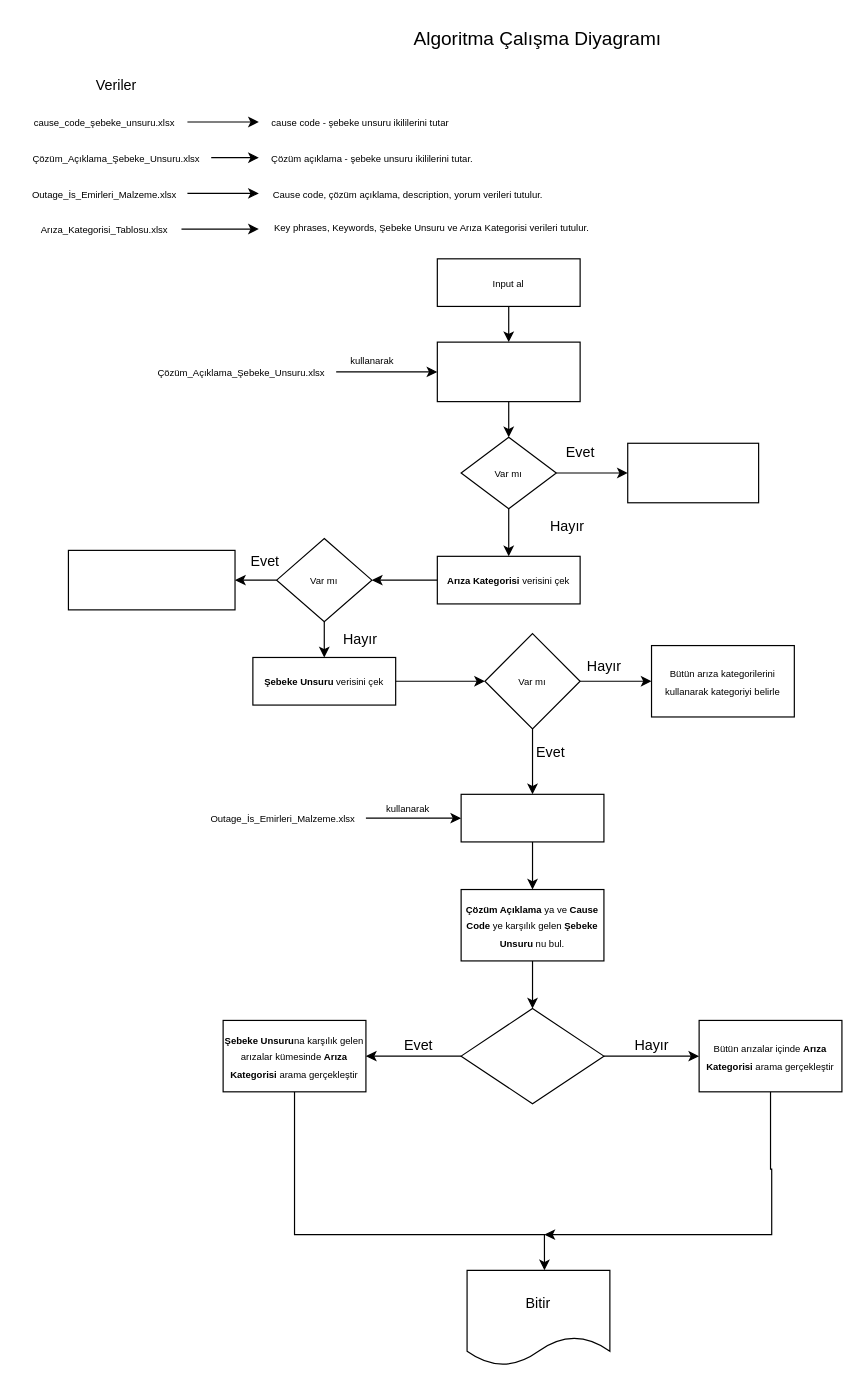
Some shapes in this 863 by 1386 pixel diagram are drawn without their labels. Each missing label, with the centre of its shape:
"Aynı Şebeke Unsuru mu" belongs at (x=532, y=1055).
"Input a karşılık gelen Çözüm Açıklama yı bul. Arıza Kök-Neden verisini çek" belongs at (x=508, y=371).
"İlgili input için Arıza Kategorisi bulundu" belongs at (x=151, y=579).
"İlgili input için Arıza Kök-Neden bulundu. İşlemi bitir" belongs at (x=693, y=472).
"Çözüm Açıklama ya karşılık gelen Cause Code yi bul" belongs at (x=532, y=817).
